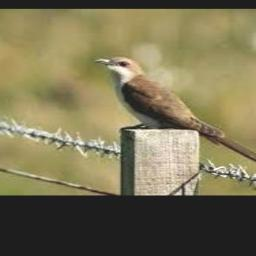Cuckoo: (94, 57, 256, 174)
